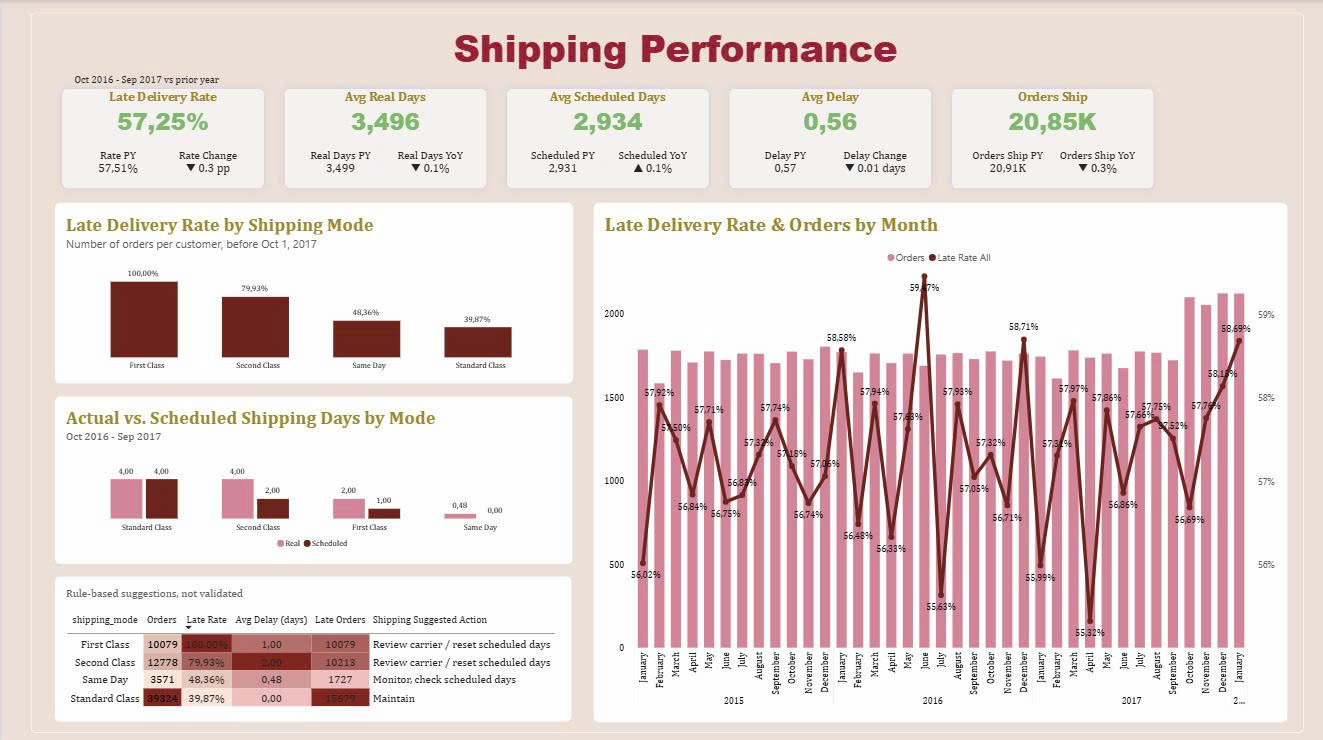

What the dashboard file says about the page in this screenshot:
{"tool":"powerbi","page":{"name":"Shipping","canvas":[1920,1080],"ordinal":2},"visuals":[{"type":"shape","box":[42.4,17.4,1843.3,1043.1],"z":0},{"type":"cardVisual","fields":{"Data":["Shipping Measure.Late Delivery Rate","Shipping Measure.Avg Real Days","Shipping Measure.Avg Scheduled Days","Shipping Measure.Avg Delay","Shipping Measure.Delivery rows"]},"box":[76,117.6,1605.2,166.5],"z":1000},{"type":"textbox","box":[653.3,30.8,693.1,86.9],"z":2000},{"type":"textbox","box":[104.1,104.1,235.3,33.7],"z":3000},{"type":"tableEx","fields":{"Values":["dim_order_info.shipping_mode","Shipping Measure.Orders","Shipping Measure.Late Rate All","Shipping Measure.Avg Delay (all)","Shipping Measure.Late Orders","Shipping Measure.Shipping Suggested Action"]},"box":[75.5,833.8,748.9,211.3],"z":4000},{"type":"clusteredColumnChart","title":"Late Delivery Rate by Shipping Mode ","fields":{"Category":["dim_order_info.shipping_mode"],"Y":["Shipping Measure.Late Rate All"]},"box":[76,293.2,751,262.4],"z":5000},{"type":"lineClusteredColumnComboChart","title":"Late Delivery Rate & Orders by Month","fields":{"Category":["Date.Month Start.Variation.Date Hierarchy.Year","Date.Month Start.Variation.Date Hierarchy.Month"],"Y":["Shipping Measure.Orders"],"Y2":["Shipping Measure.Late Rate All"]},"box":[856.4,292.4,1005.5,752.7],"z":6000},{"type":"clusteredColumnChart","title":"Actual vs. Scheduled Shipping Days by Mode","fields":{"Category":["dim_order_info.shipping_mode"],"Y":["Shipping Measure.Avg Real Days (All)","Shipping Measure.Avg Scheduled Days (All)"]},"box":[75.5,573.5,750.8,243.3],"z":9000}]}

Visuals, with their boxes in screenshot pixels (x1, y1, x2, y2), scaled from the page's 1920x1080 canvas onto the 1323x740 screenshot:
shape: BBox(29, 12, 1299, 727)
cardVisual - Shipping Measure.Late Delivery Rate x Shipping Measure.Avg Real Days: BBox(52, 81, 1158, 195)
textbox: BBox(450, 21, 928, 81)
textbox: BBox(72, 71, 234, 94)
tableEx - dim_order_info.shipping_mode x Shipping Measure.Orders: BBox(52, 571, 568, 716)
"Late Delivery Rate by Shipping Mode " clusteredColumnChart: BBox(52, 201, 570, 381)
"Late Delivery Rate & Orders by Month" lineClusteredColumnComboChart: BBox(590, 200, 1283, 716)
"Actual vs. Scheduled Shipping Days by Mode" clusteredColumnChart: BBox(52, 393, 569, 560)
